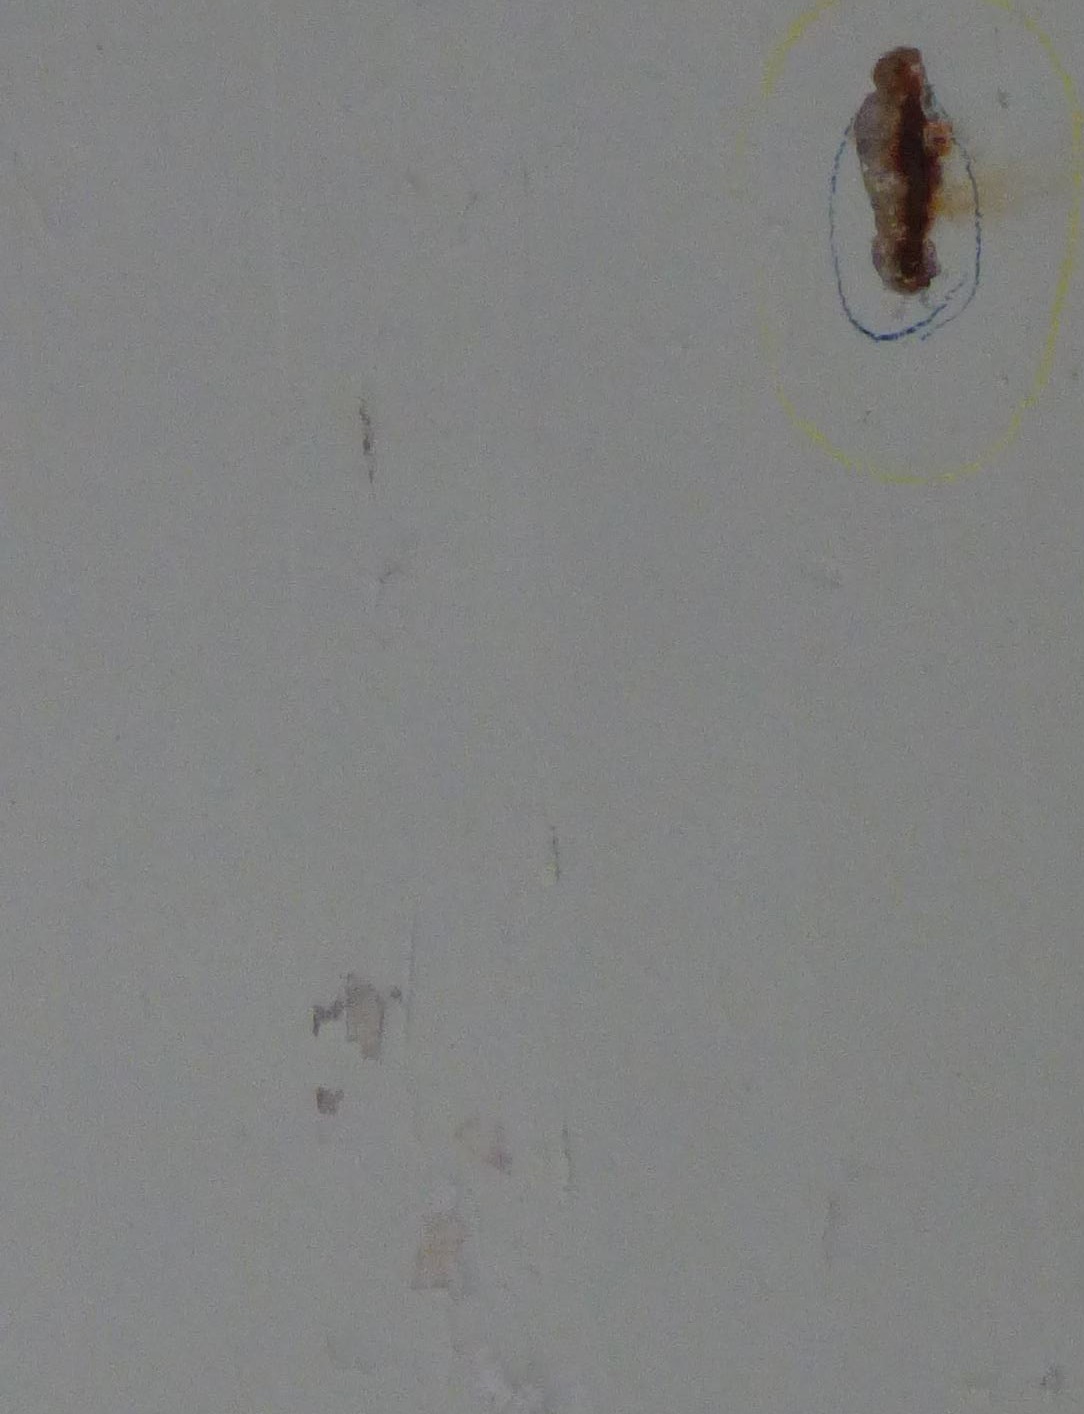Exposed reinforcement: (897, 93, 933, 279)
Spalling: (854, 46, 946, 295)
